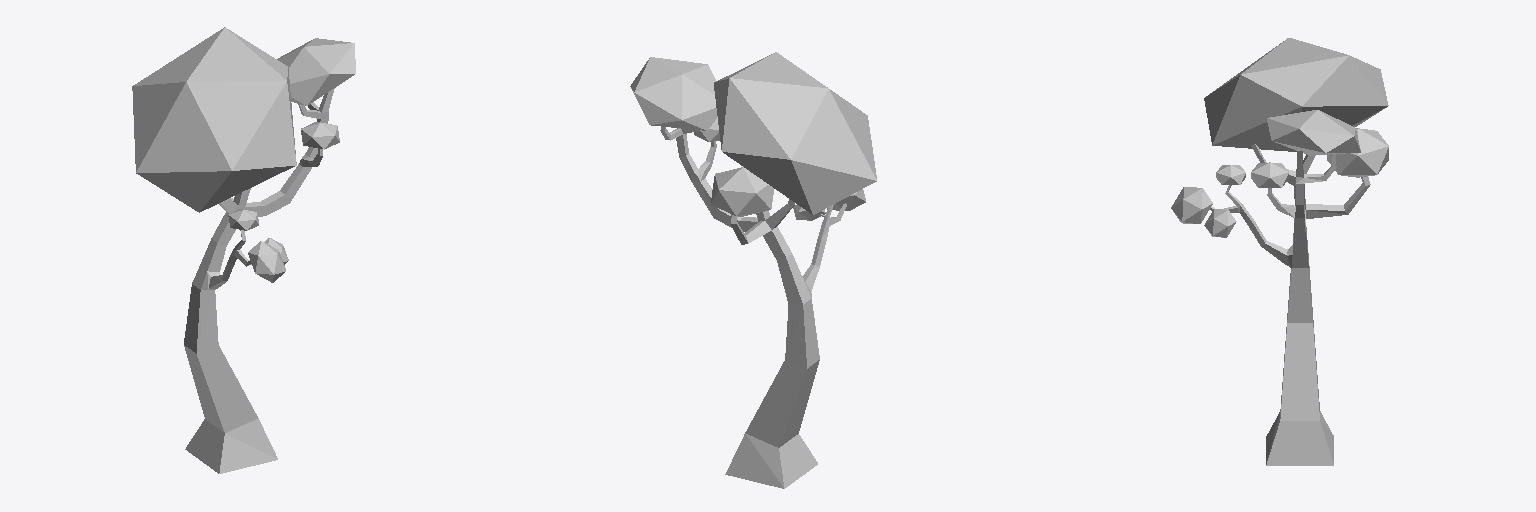
The model's file is arbol_4.obj.
The picture shows the model from 3 angles: view 1: azimuth 30°, elevation 25°; view 2: azimuth 150°, elevation 25°; view 3: azimuth 270°, elevation 25°; orthographic projection.
Visible parts, largest first — view 1: bonsai; view 2: bonsai; view 3: bonsai.
Boxes of the visible parts, <box> form: bonsai: <box>132,27,355,473</box>; bonsai: <box>630,52,876,488</box>; bonsai: <box>1171,38,1388,465</box>.
Bounding box in the file's own units: 3.04 × 5.13 × 2.5.